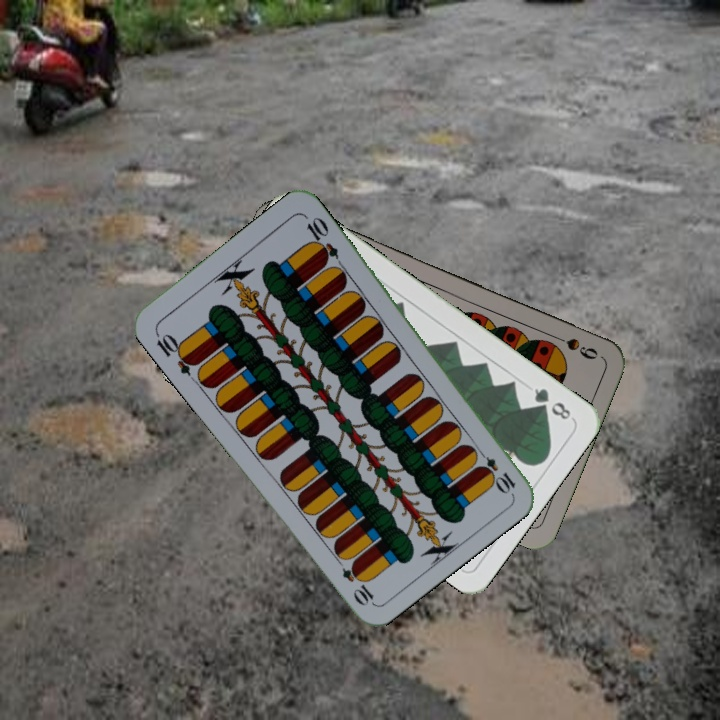E10: (151, 328, 200, 378), (471, 444, 518, 496)
G8: (530, 384, 574, 423)
S9: (546, 329, 601, 363)
